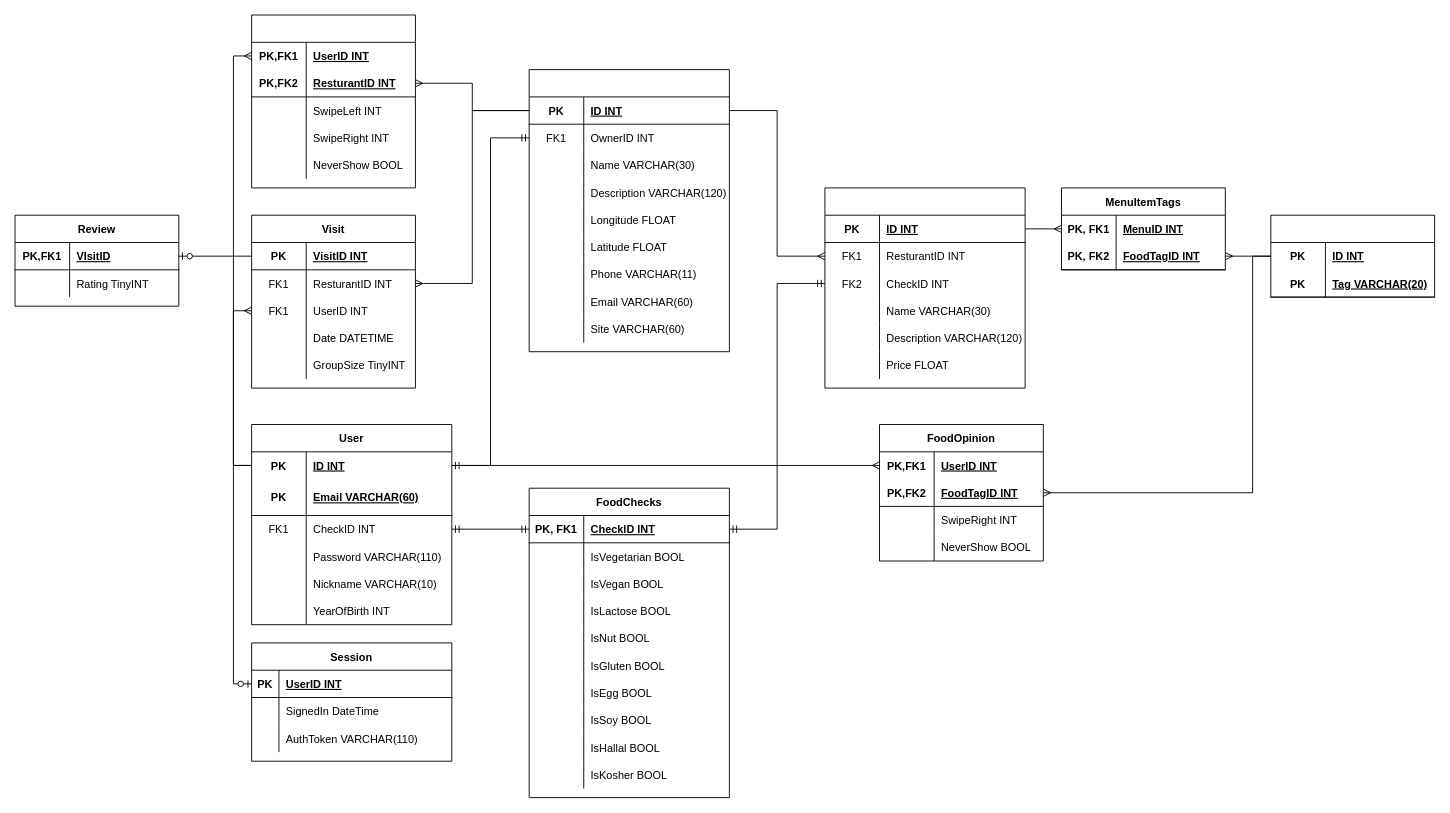
Image size: 1450x813. Some labels were removed from this diagram. The box of each missing label's shape, as (x1, y1, x2, y2) in pixels:
Food_Tags: (1270, 214, 1435, 297)
MenuItem: (824, 187, 1025, 388)
Resturant: (528, 69, 729, 352)
ResturantOpinion: (251, 14, 415, 188)
